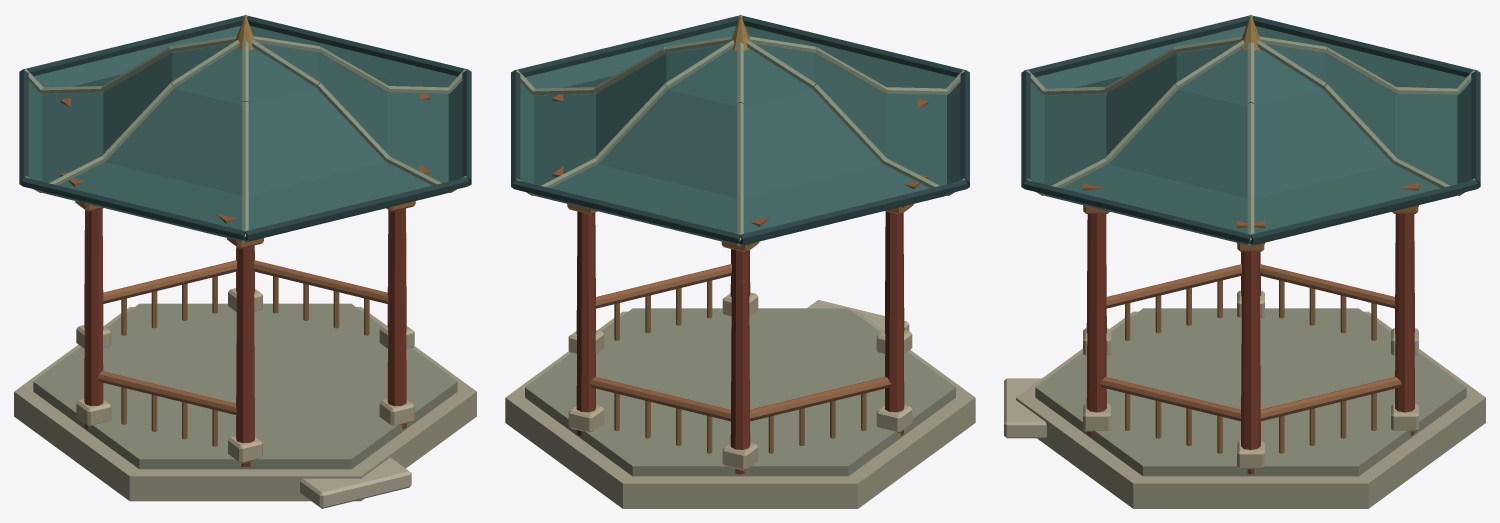
The model's file is pack-pavilion.glb.
3 views of the same model, side by side, from view 1: azimuth 30°, elevation 25°; view 2: azimuth 150°, elevation 25°; view 3: azimuth 270°, elevation 25° (orthographic).
Parts seen in each view (by area): view 1: SculptedModel; view 2: SculptedModel; view 3: SculptedModel.
Part boxes in pixels (x1,y1,x2,y2): SculptedModel: [14, 14, 476, 508]; SculptedModel: [505, 14, 975, 508]; SculptedModel: [1004, 14, 1485, 508].
Bounding box in the file's own units: 4.89 × 4.19 × 4.47.
